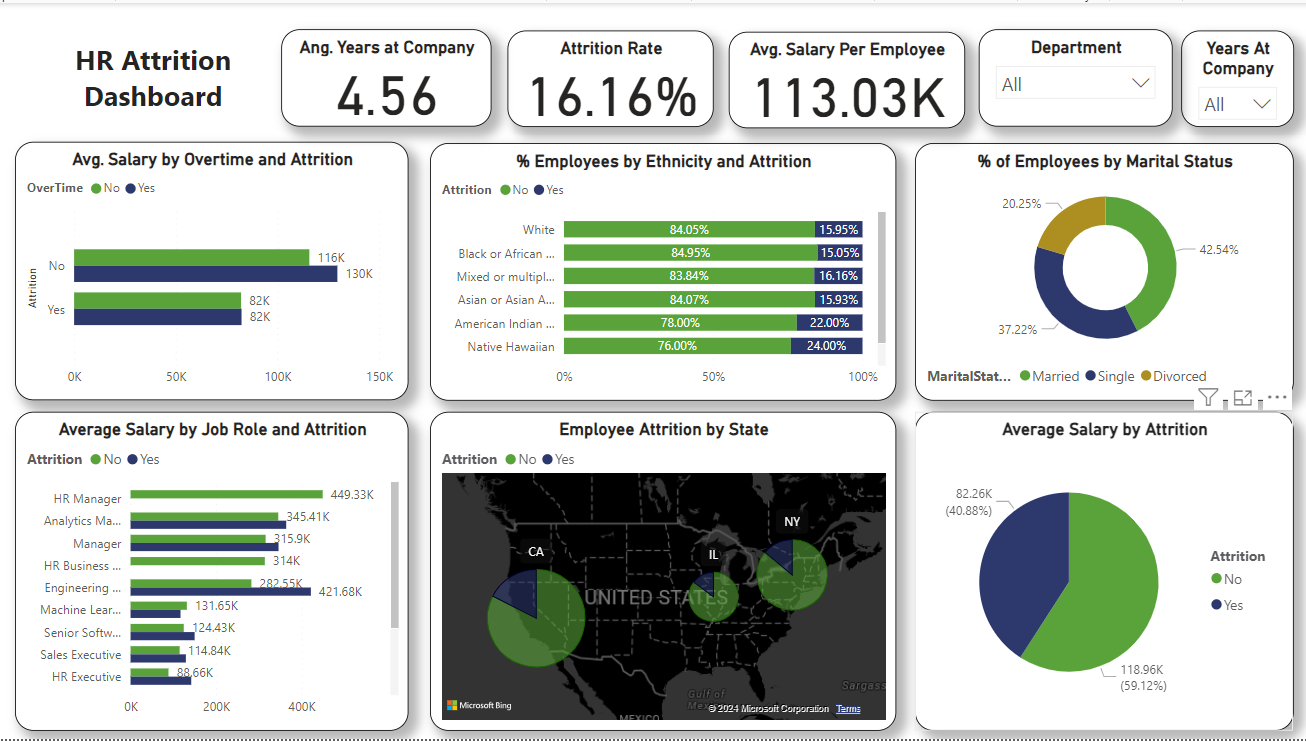

What the dashboard file says about the page in this screenshot:
{"tool":"powerbi","page":{"name":"HR Attrition Dashboard","canvas":[1280,720],"ordinal":0},"visuals":[{"type":"card","title":"Attrition Rate","fields":{"Values":["Education level.Attrition"]},"box":[496.3,26.9,201.7,94.1],"z":0},{"type":"textbox","box":[14.7,31.8,270.2,89.2],"z":1000},{"type":"clusteredBarChart","title":"Avg. Salary by Overtime and Attrition","fields":{"Category":["Employee.Attrition"],"Series":["Employee.OverTime"],"Y":["Avg(Employee.Salary)"]},"box":[14.7,135.7,385.1,253],"z":2000},{"type":"hundredPercentStackedBarChart","title":"% Employees by Ethnicity and Attrition","fields":{"Category":["Employee.Ethnicity"],"Y":["CountNonNull(Employee.EmployeeID)"],"Series":["Employee.Attrition"]},"box":[420.5,136.9,456,251.8],"z":3000},{"type":"donutChart","title":"% of Employees by Marital Status","fields":{"Category":["Employee.MaritalStatus"],"Y":["CountNonNull(Employee.EmployeeID)"]},"box":[894.8,136.9,370.4,251.8],"z":4000},{"type":"clusteredBarChart","title":"Average Salary by Job Role and Attrition","fields":{"Category":["Employee.JobRole"],"Series":["Employee.Attrition"],"Y":["Measures Table.Average Salary per Employee"]},"box":[14.7,399.7,385.1,311.7],"z":5000},{"type":"map","title":"Employee Attrition by State","fields":{"Size":["CountNonNull(Employee.EmployeeID)"],"Series":["Employee.Attrition"],"Category":["Employee.State"]},"box":[421,400,456,312],"z":6000},{"type":"pieChart","title":"Average Salary by Attrition","fields":{"Y":["Avg(Employee.Salary)"],"Category":["Employee.Attrition"]},"box":[895,400,370,312],"z":7000},{"type":"slicer","title":"Years At Company","fields":{"Values":["Employee.YearsAtCompany"]},"box":[1155.2,26.9,110,94.1],"z":8000},{"type":"card","title":"Ang. Years at Company","fields":{"Values":["Measures Table.Average Years at Company"]},"box":[275,25.7,205.4,95.3],"z":9000},{"type":"card","title":"Avg. Salary Per Employee","fields":{"Values":["Measures Table.Average Salary per Employee"]},"box":[712.7,28.1,231,94.1],"z":10000},{"type":"slicer","title":"Department","fields":{"Values":["Employee.Department"]},"box":[957.1,25.7,189.5,95.3],"z":11000}]}

Visuals, with their boxes in screenshot pixels (x1, y1, x2, y2), scaled from the page's 1280x720 canvas onto the 1306x743 screenshot:
"Attrition Rate" card: detection(506, 28, 712, 125)
textbox: detection(15, 33, 291, 125)
"Avg. Salary by Overtime and Attrition" clusteredBarChart: detection(15, 140, 408, 401)
"% Employees by Ethnicity and Attrition" hundredPercentStackedBarChart: detection(429, 141, 894, 401)
"% of Employees by Marital Status" donutChart: detection(913, 141, 1291, 401)
"Average Salary by Job Role and Attrition" clusteredBarChart: detection(15, 412, 408, 734)
"Employee Attrition by State" map: detection(430, 413, 895, 735)
"Average Salary by Attrition" pieChart: detection(913, 413, 1291, 735)
"Years At Company" slicer: detection(1179, 28, 1291, 125)
"Ang. Years at Company" card: detection(281, 27, 490, 125)
"Avg. Salary Per Employee" card: detection(727, 29, 963, 126)
"Department" slicer: detection(977, 27, 1170, 125)
